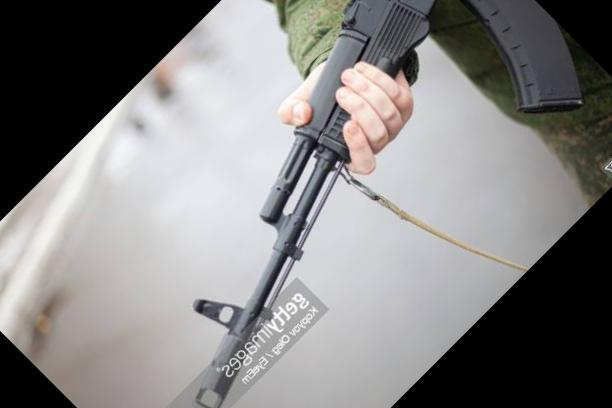larga: (193, 0, 586, 408)
